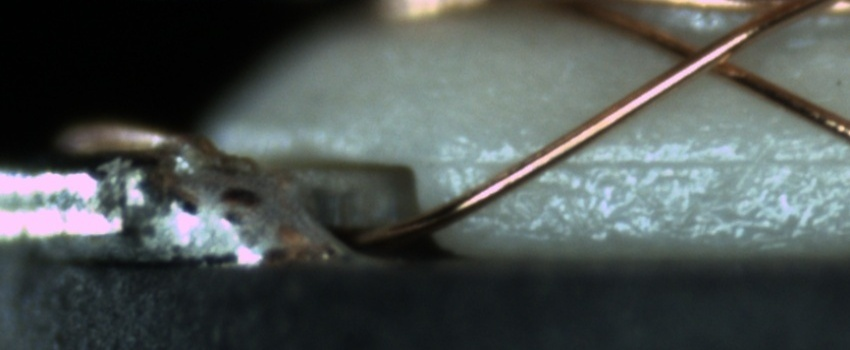CL: (656, 29, 748, 87)
DL: (449, 128, 849, 192)
TE: (47, 112, 193, 163)
